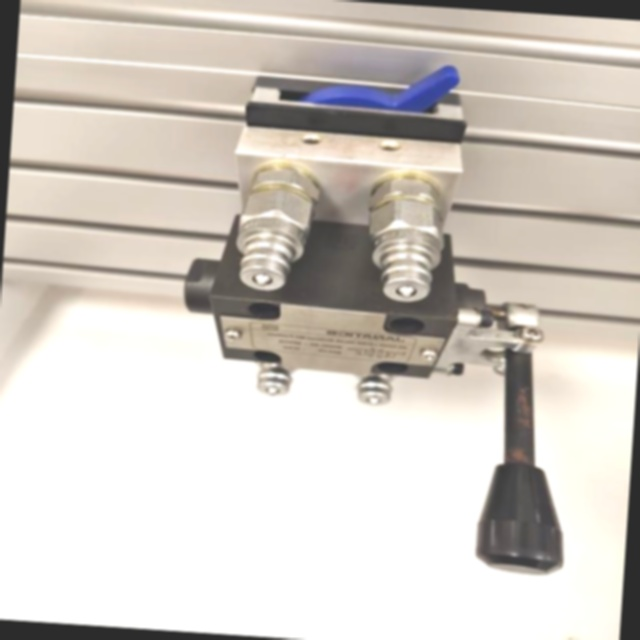4by3 hand lever valve: (159, 47, 596, 582)
